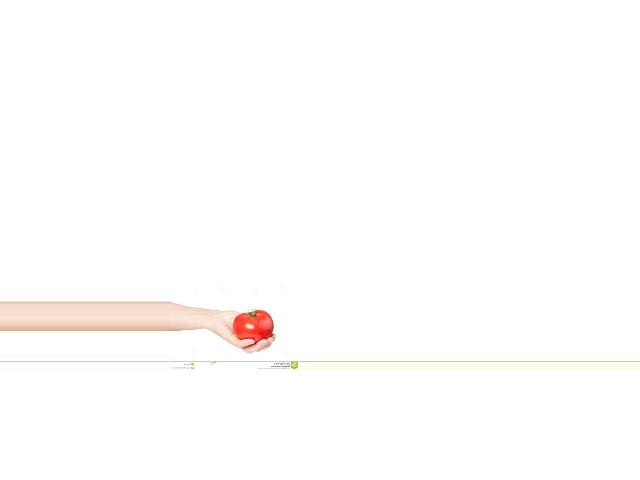tomato: (231, 309, 273, 343)
